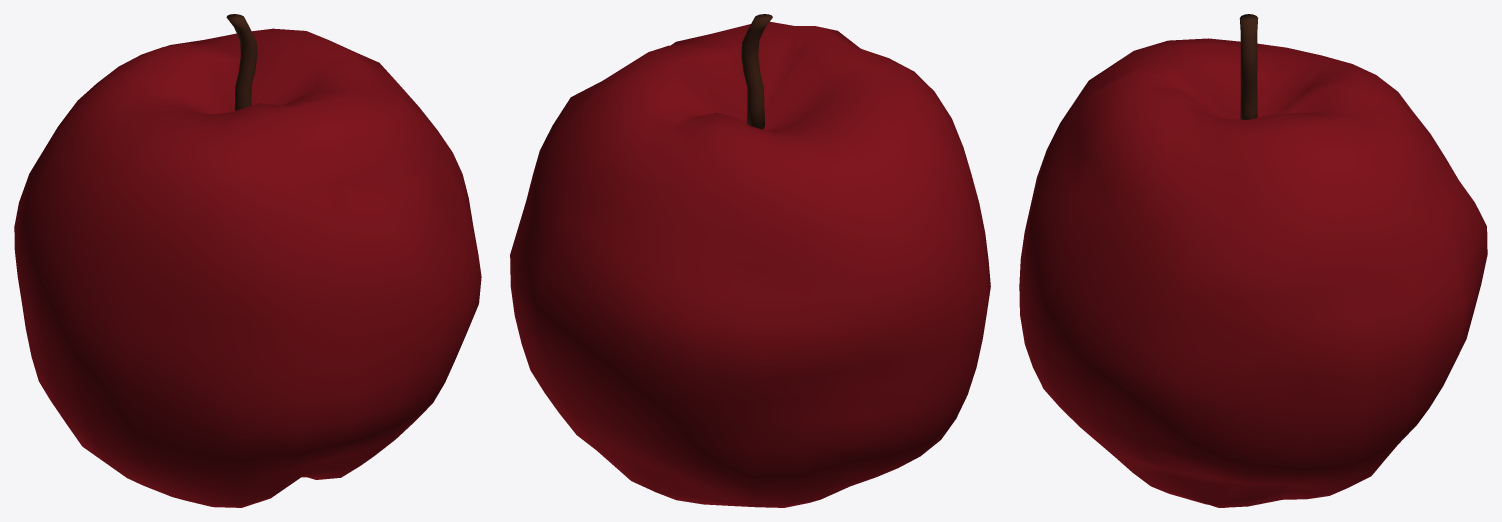
The model's file is AppleSmooth 1.fbx.
3 views of the same model, side by side, from view 1: azimuth 30°, elevation 25°; view 2: azimuth 150°, elevation 25°; view 3: azimuth 270°, elevation 25° (orthographic). The views are drawn at different scales.
Parts seen in each view (by area): view 1: Apple, Apple.001; view 2: Apple, Apple.001; view 3: Apple, Apple.001.
Part boxes in pixels (box(x1,y1,x2,y2)): Apple: box(14, 28, 481, 507); Apple.001: box(226, 14, 257, 110); Apple: box(510, 21, 990, 507); Apple.001: box(741, 14, 772, 129); Apple: box(1019, 38, 1487, 507); Apple.001: box(1239, 14, 1258, 119).
Bounding box in the file's own units: 66.56 × 71.05 × 66.77.
